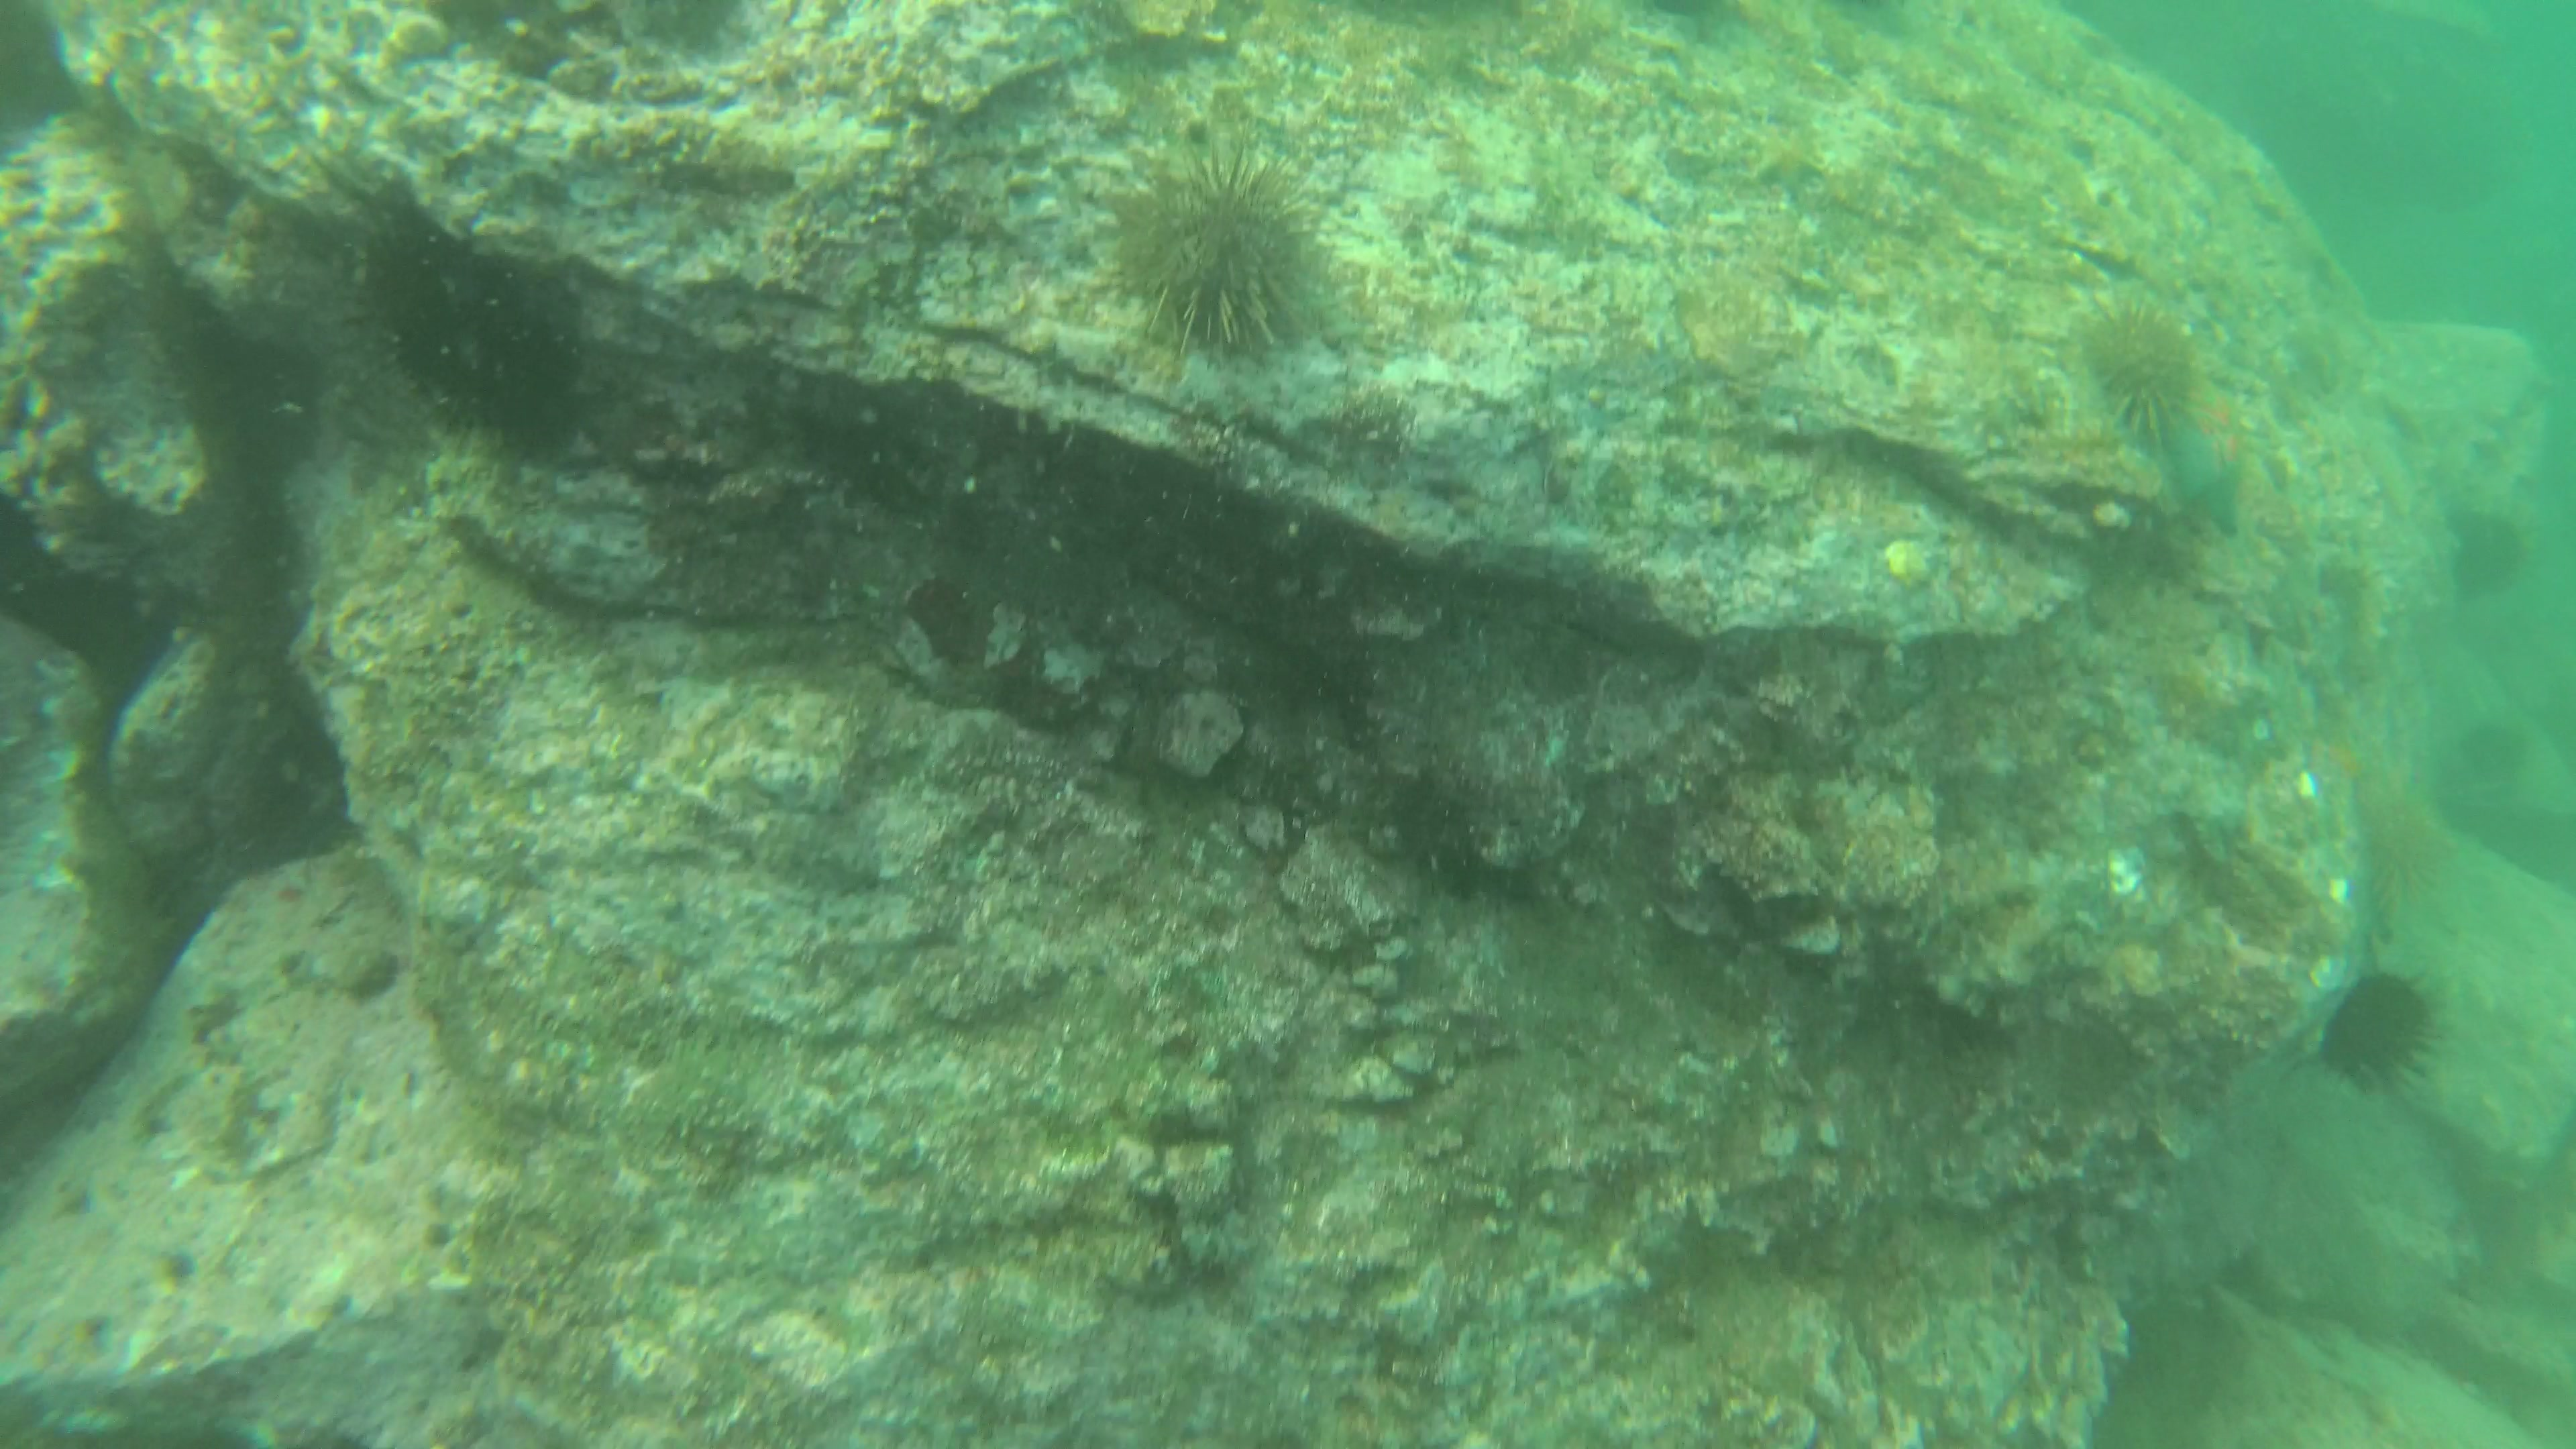echinus: (1088, 138, 1320, 336), (393, 306, 607, 451), (341, 225, 508, 372), (2325, 957, 2450, 1111), (2089, 292, 2210, 425), (2450, 508, 2537, 586), (2463, 713, 2525, 791)
starfish: (2157, 382, 2256, 541)
